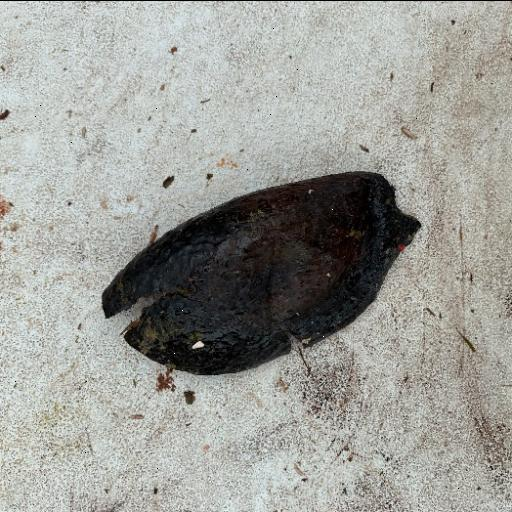Waste: (98, 168, 422, 378)
